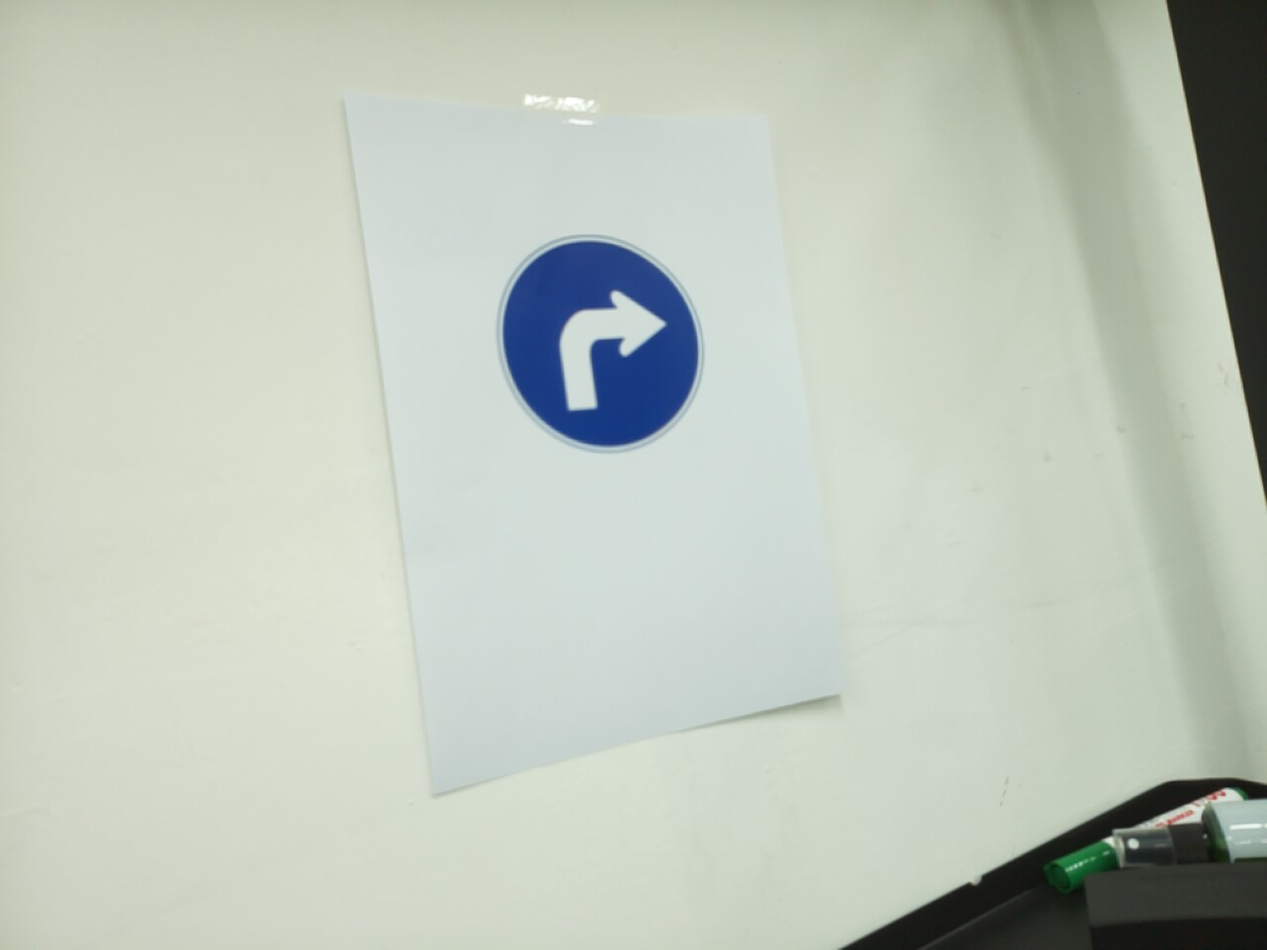right_turn: (495, 233, 707, 455)
